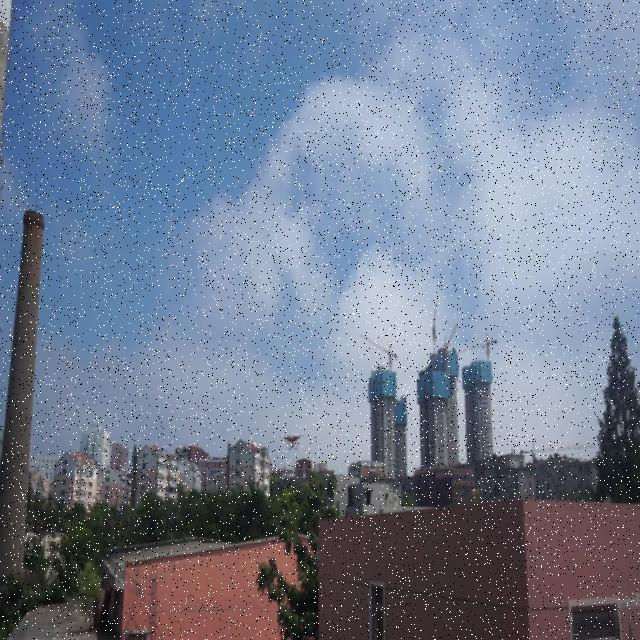UAV: (279, 433, 305, 449)
